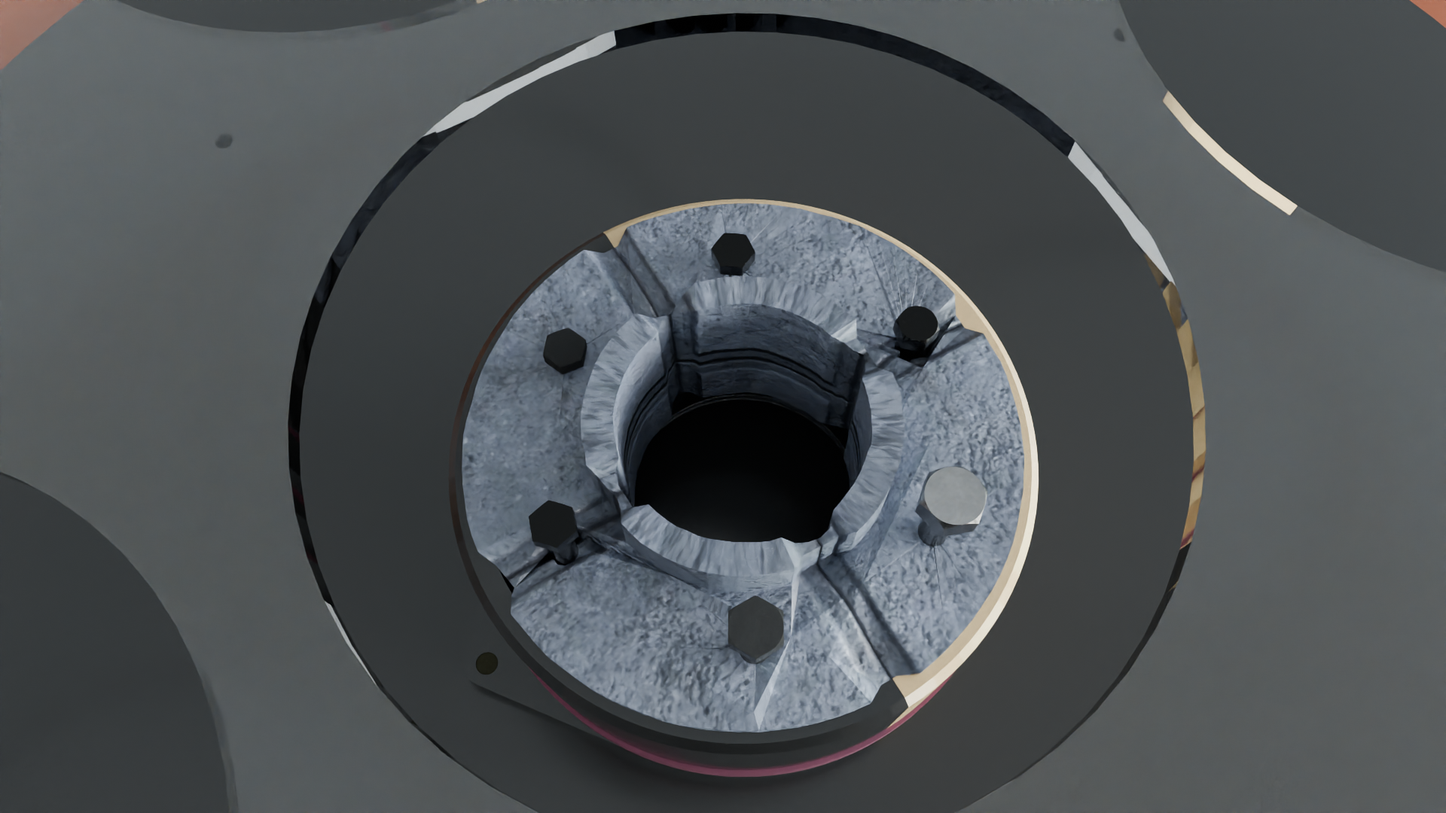bolt: (920, 466, 988, 530), (728, 595, 784, 659), (529, 500, 577, 548), (895, 306, 940, 345), (543, 327, 586, 367), (712, 233, 755, 269)
